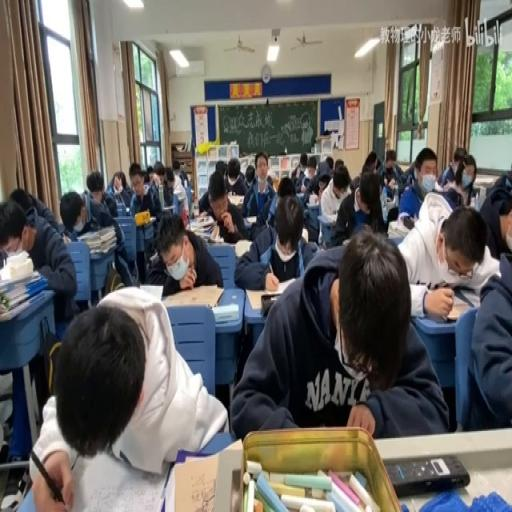calculator: (66, 442, 166, 509), (170, 453, 220, 512), (436, 294, 474, 323), (0, 250, 32, 279), (212, 302, 238, 324), (138, 282, 163, 300), (272, 276, 298, 293), (234, 236, 252, 258), (379, 196, 396, 218), (190, 213, 214, 226), (134, 213, 155, 226), (474, 189, 484, 212), (227, 194, 245, 206), (210, 224, 219, 240), (306, 199, 320, 208), (149, 250, 158, 263), (244, 215, 258, 223), (297, 190, 306, 198), (162, 204, 172, 210)
paper: (232, 227, 443, 441), (0, 195, 77, 334), (462, 243, 510, 430), (65, 186, 132, 292), (145, 208, 221, 296), (194, 169, 248, 243), (477, 163, 512, 257), (317, 162, 353, 240), (435, 146, 475, 204), (107, 165, 136, 210), (382, 146, 405, 190), (397, 184, 422, 218), (9, 186, 35, 215), (291, 151, 309, 192), (359, 149, 378, 175), (171, 192, 187, 222), (171, 158, 188, 186), (275, 176, 295, 198), (152, 161, 166, 186), (226, 158, 240, 182), (402, 160, 416, 184), (255, 152, 268, 172), (244, 164, 254, 186), (214, 161, 228, 176), (306, 155, 316, 174), (164, 170, 174, 188), (453, 158, 463, 173), (324, 155, 334, 169), (334, 158, 344, 171), (146, 164, 154, 179), (266, 175, 272, 188), (189, 188, 194, 199)
person: (386, 454, 470, 496), (260, 292, 278, 314), (402, 214, 414, 228)
